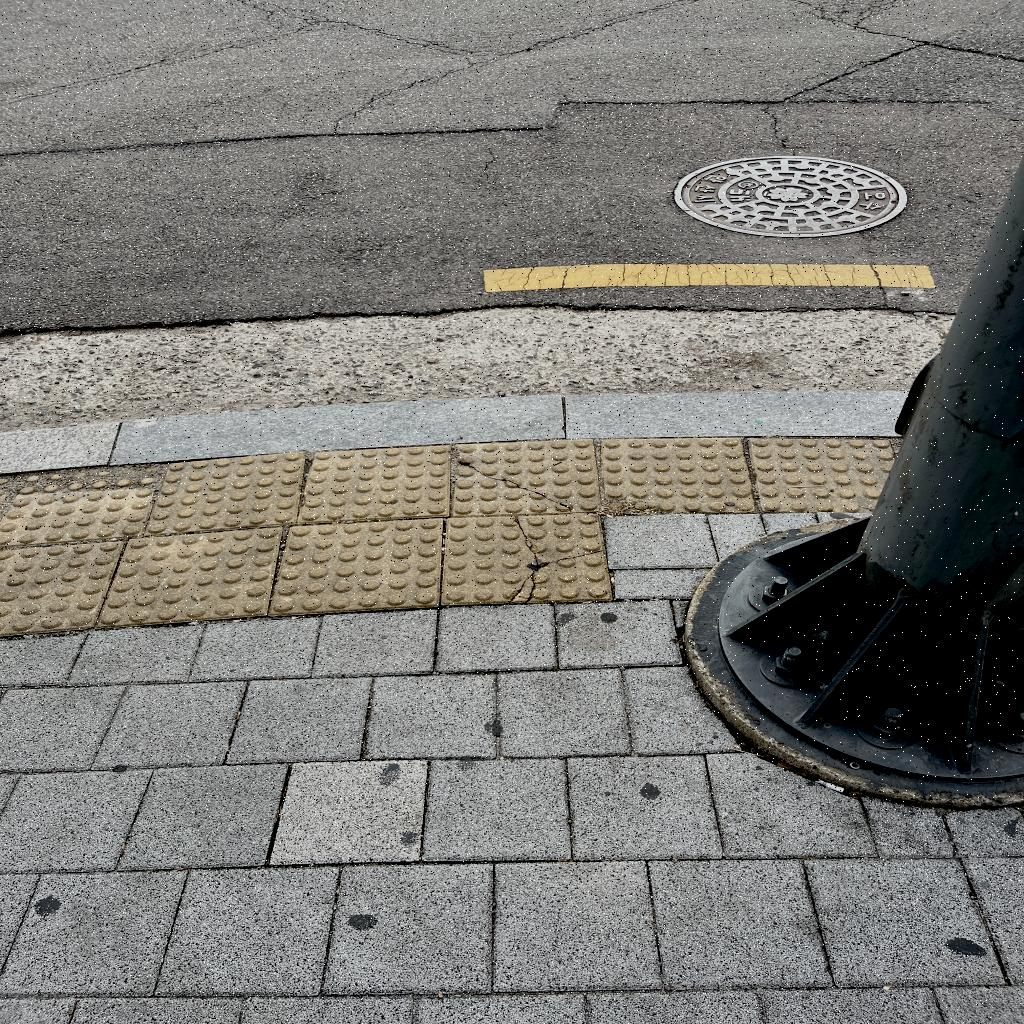Stop block broken: (438, 512, 609, 604), (450, 439, 602, 516)
Stop block normal: (264, 517, 448, 616), (139, 451, 311, 536)
